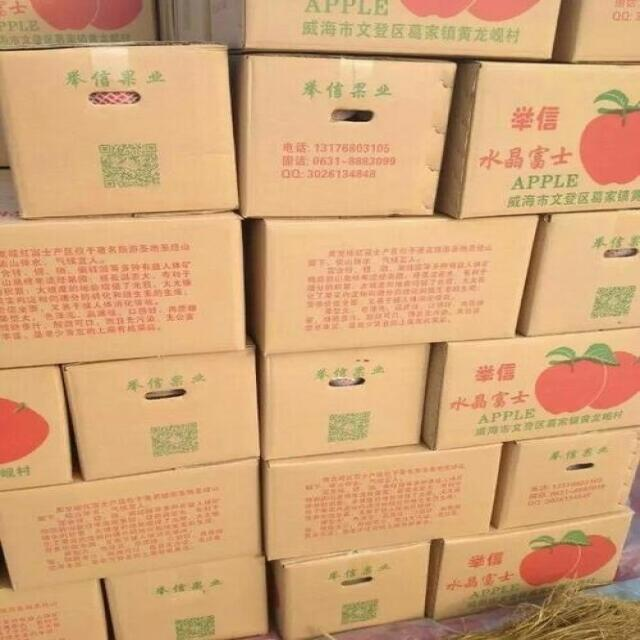box: (0, 169, 244, 369), (0, 41, 239, 219), (252, 210, 540, 355), (232, 55, 456, 220), (0, 458, 264, 594), (439, 60, 640, 215), (265, 442, 503, 563), (64, 339, 261, 481), (425, 327, 640, 451), (424, 505, 635, 620), (256, 347, 429, 458), (266, 540, 430, 640), (517, 209, 640, 337), (516, 211, 640, 337), (492, 426, 640, 530), (104, 555, 271, 639), (0, 545, 110, 640), (1, 367, 72, 492), (1, 0, 163, 47), (553, 0, 640, 63), (161, 0, 211, 38)
